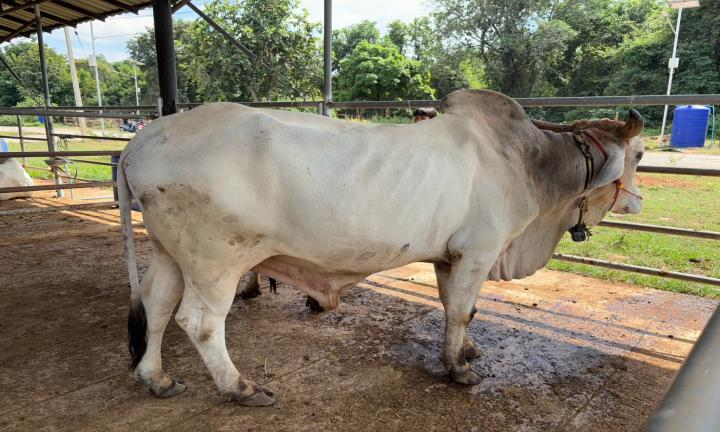Brahman: (117, 89, 643, 406)
